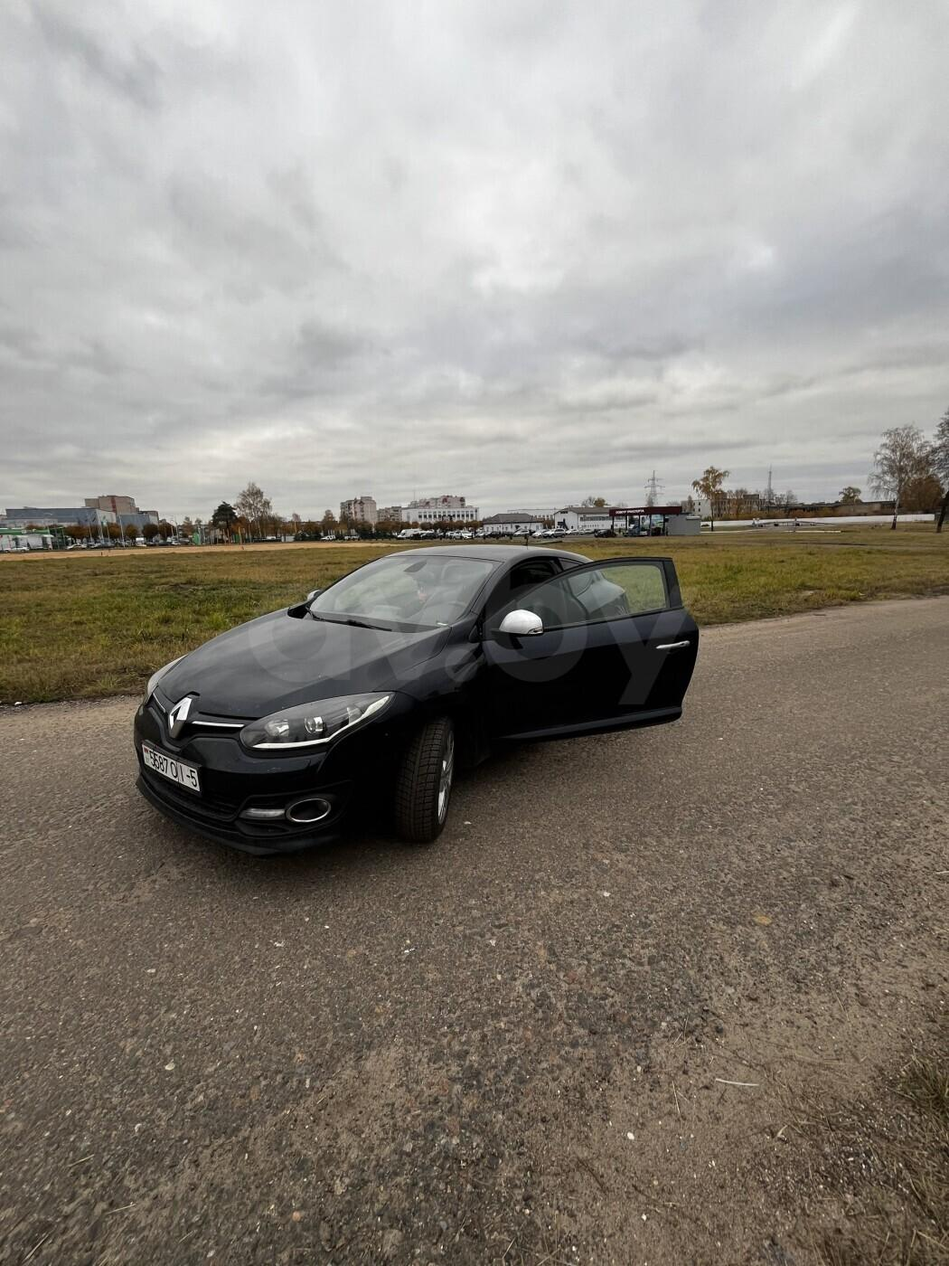Megane_2008-2014: (132, 532, 685, 850)
